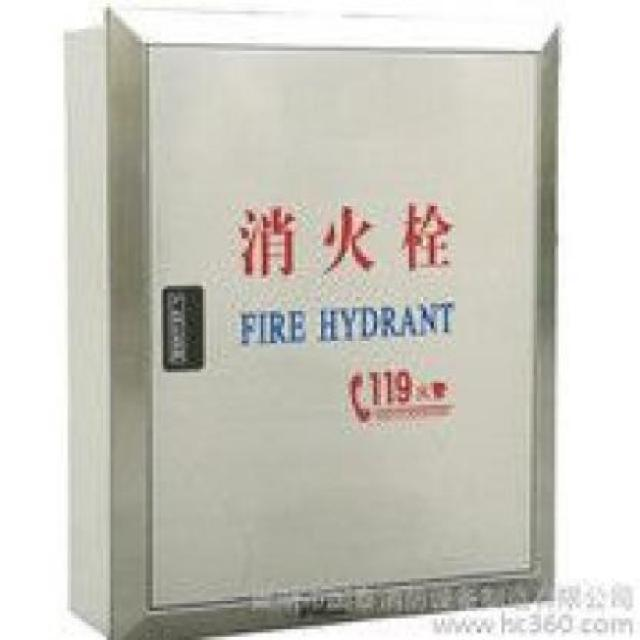firehydrant: (100, 0, 567, 640)
